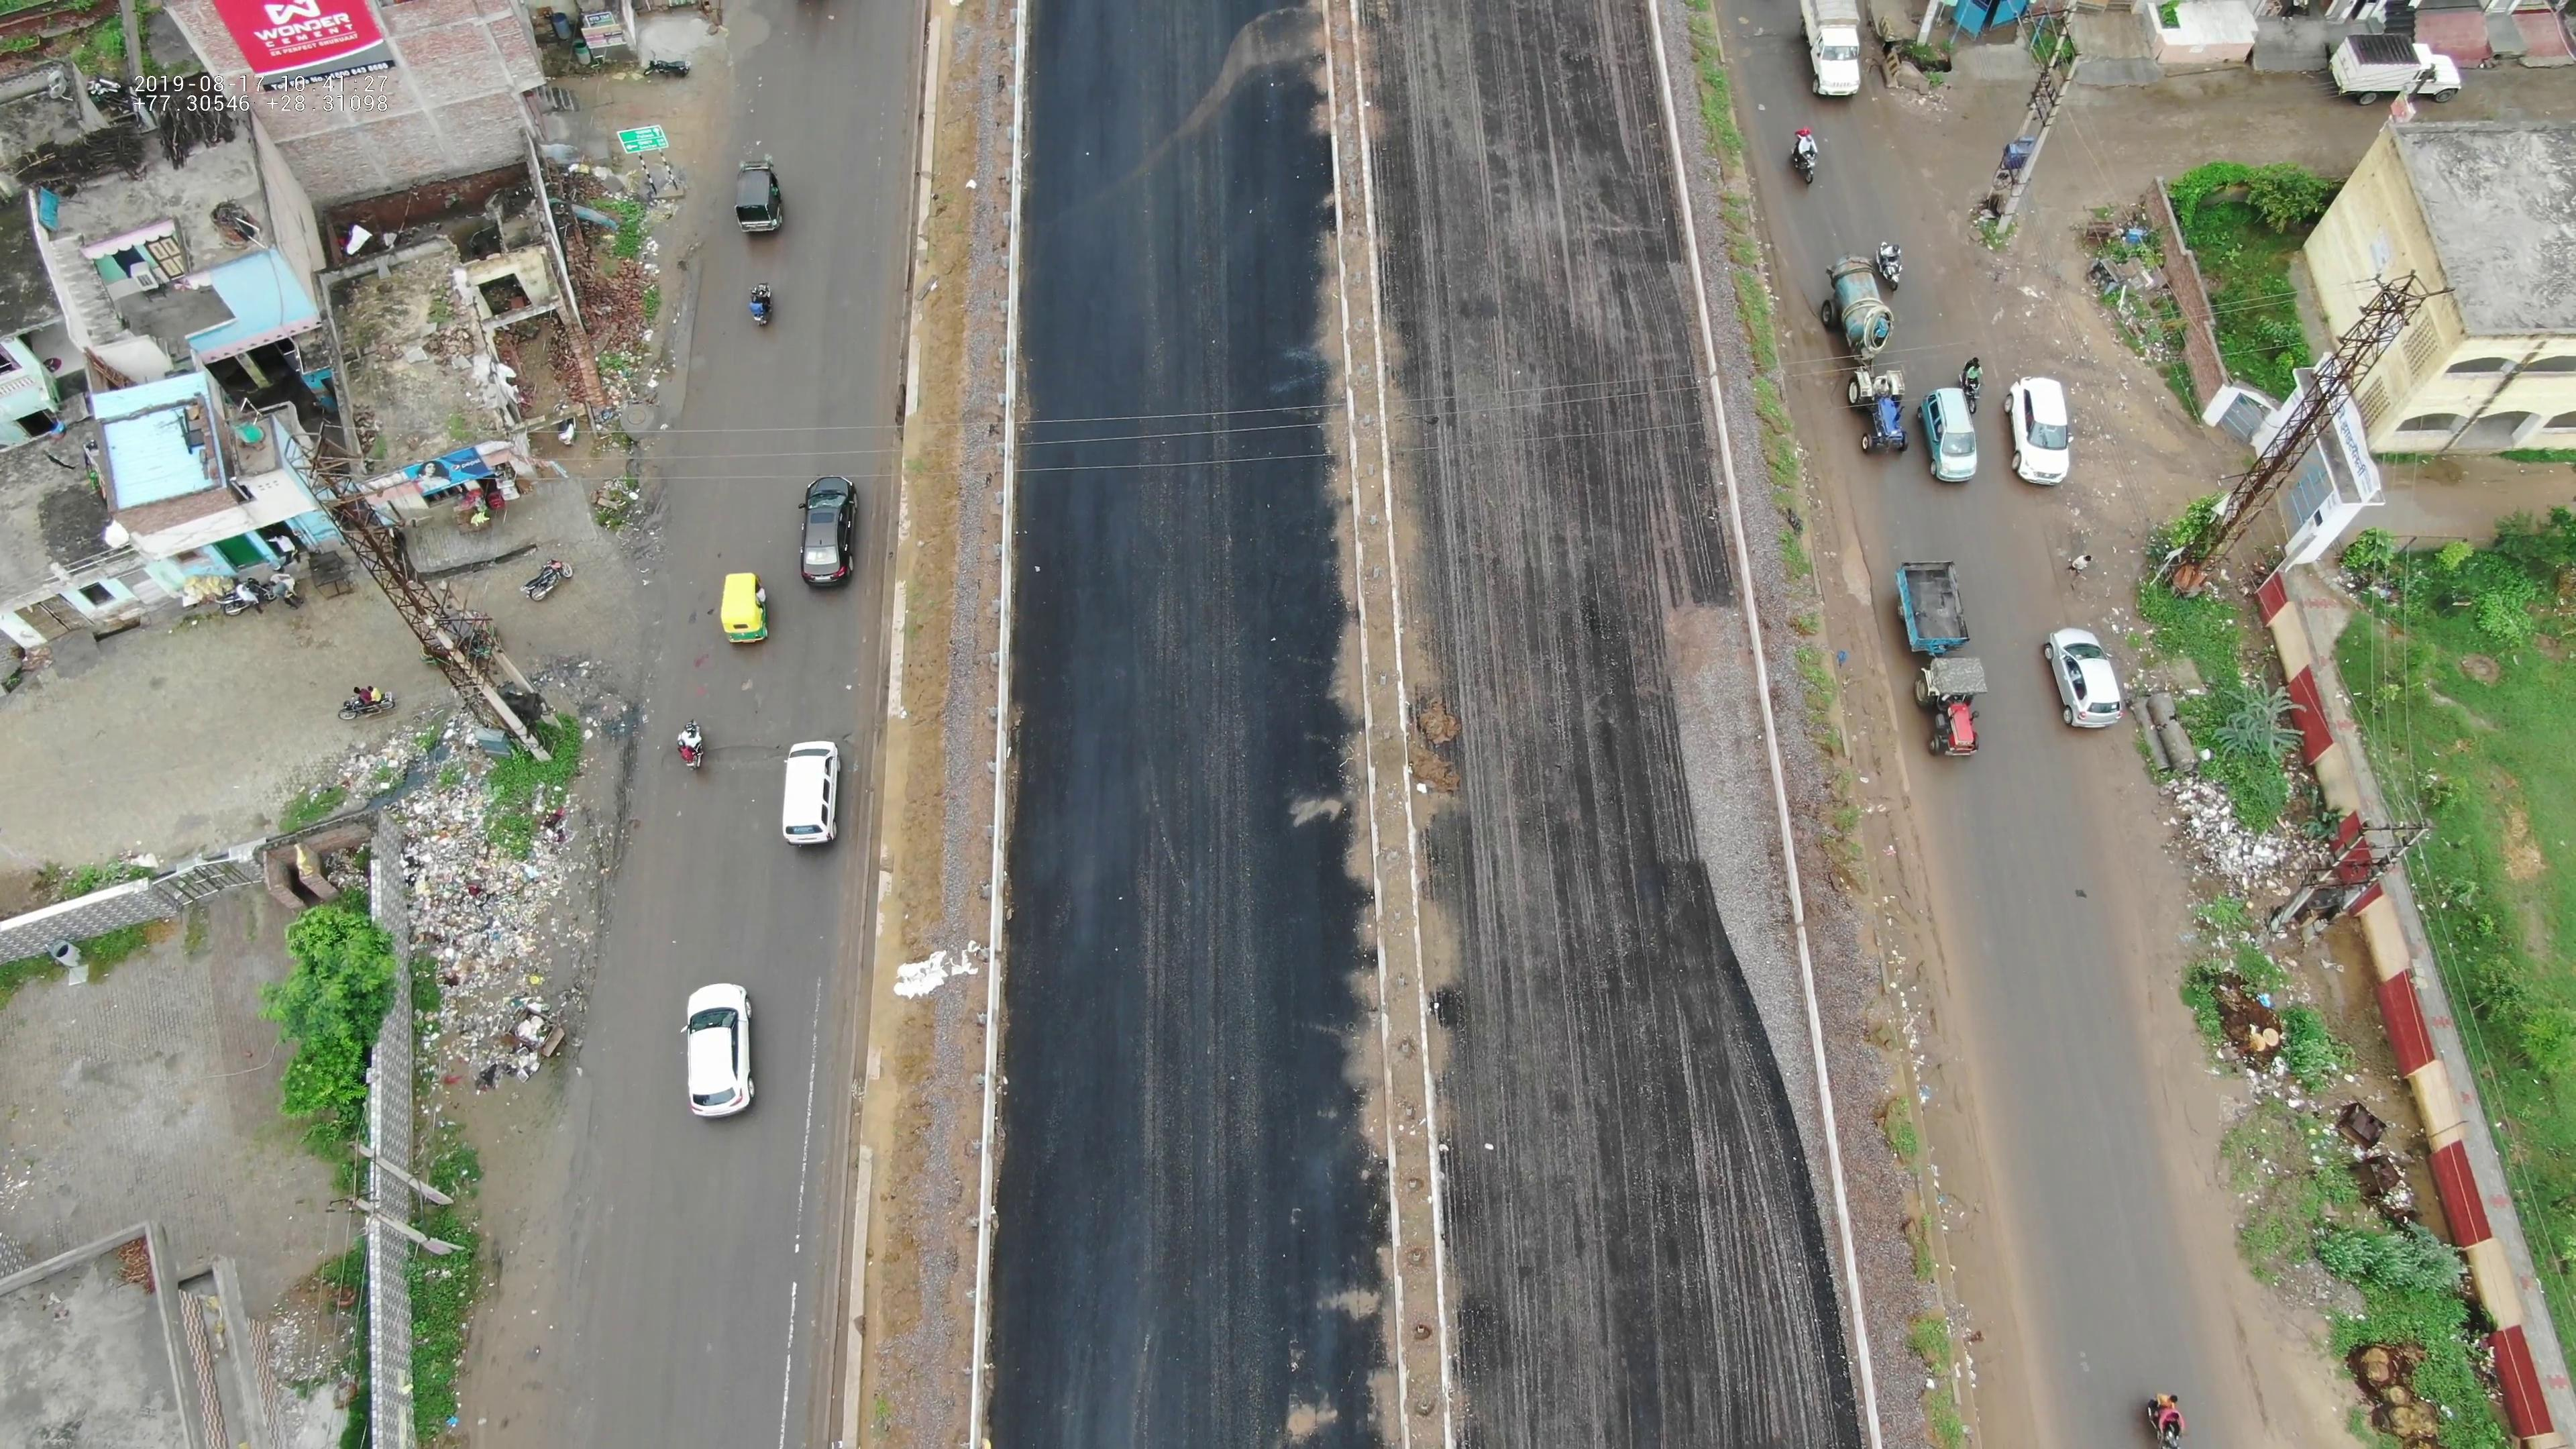Road_side_garbage: (387, 734, 540, 1051)
